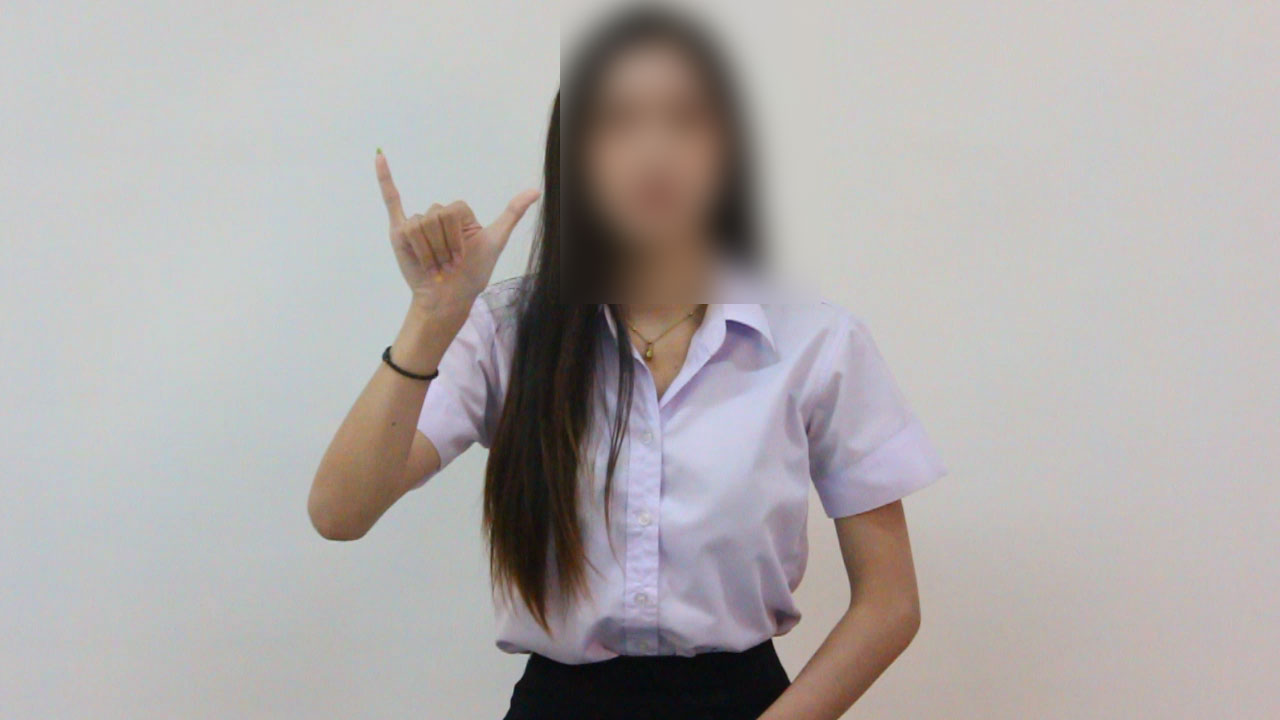yor: (360, 134, 552, 315)
